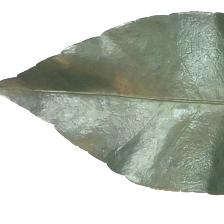healthy: (0, 11, 224, 190)
